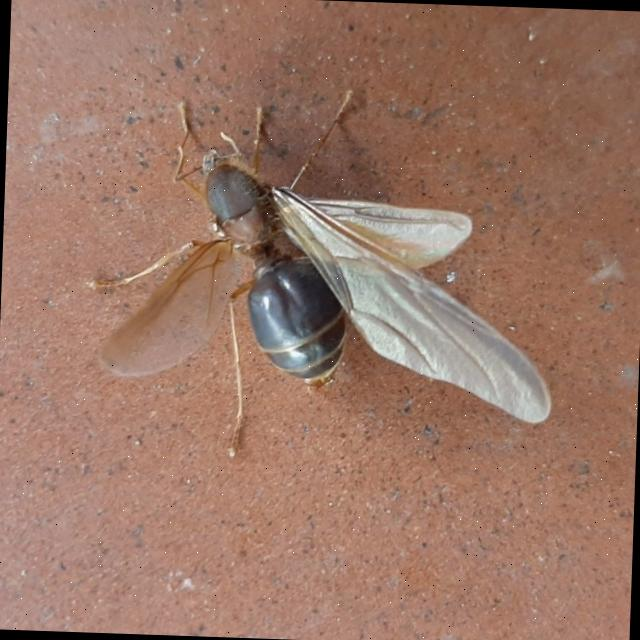Alive-Male-Alate: (80, 80, 561, 468)
